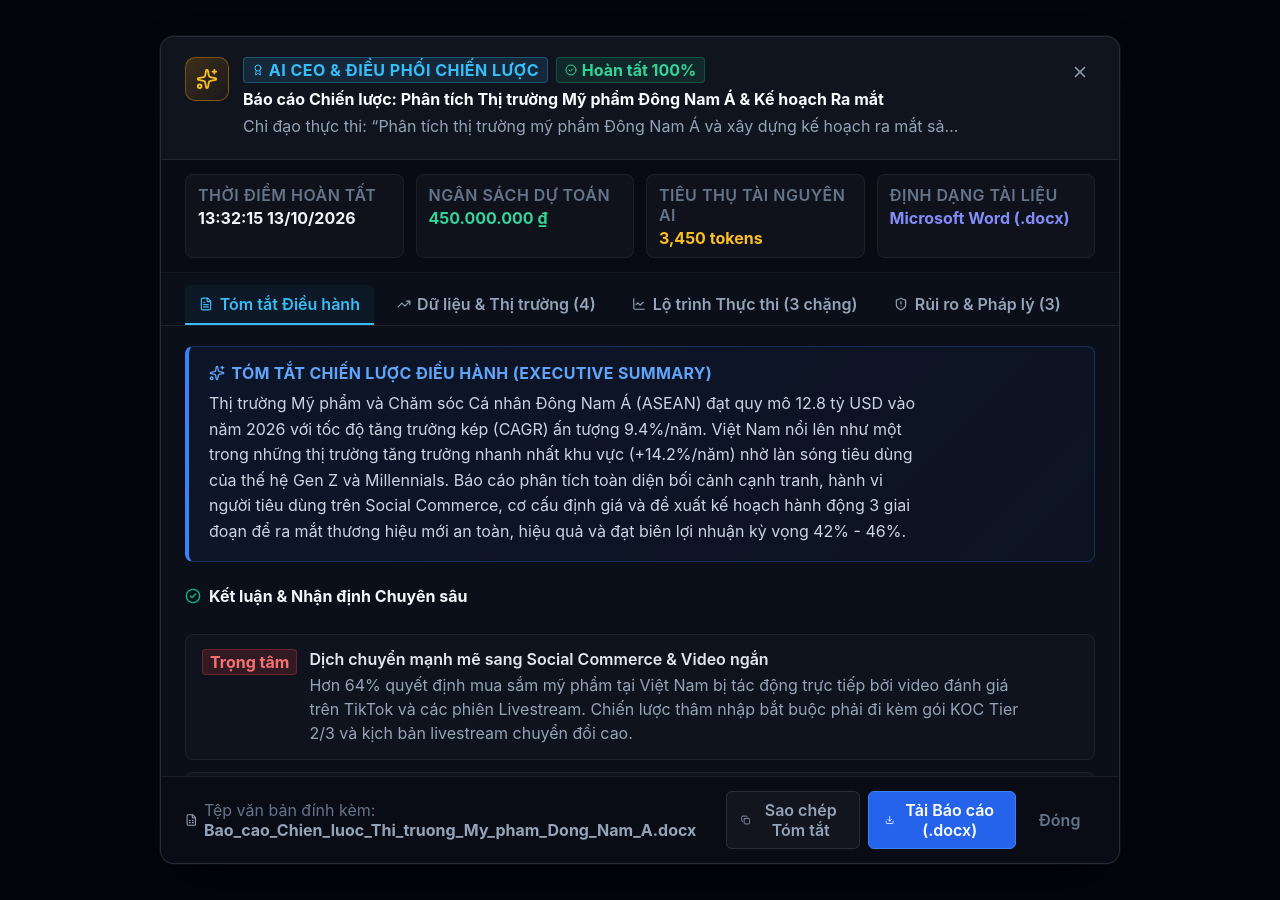
Test: StrategicDeliverableModal › switches tabs between summary, insights, action plan, and risks
Expected: the heading "Tóm tắt Chiến lược Điều hành (Executive Summary)" is shown, [231, 363, 712, 383]
// Click Insights tab
Click the button "Dữ liệu & Thị trường (4)": (496, 305) [382, 285, 610, 325]
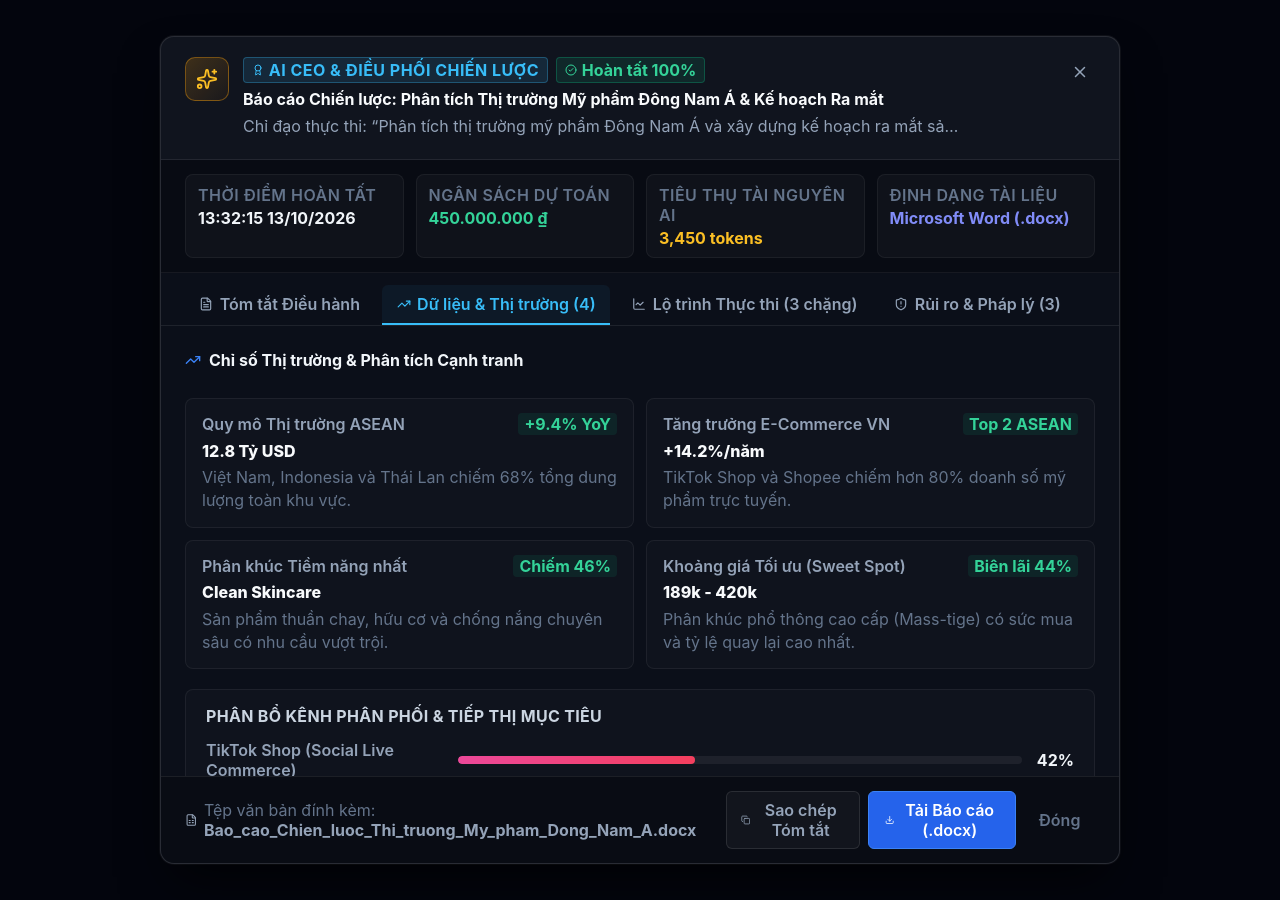
Expected: the text "12.8 Tỷ USD" is shown, [202, 440, 296, 460]
Expected: the heading "Chỉ số Thị trường & Phân tích Cạnh tranh" is shown, [209, 350, 523, 370]
Expected: the text "Quy mô Thị trường ASEAN" is shown, [202, 414, 405, 434]
// Click Action Plan tab
Click the button "Lộ trình Thực thi (3 chặng)": (745, 305) [618, 285, 872, 325]
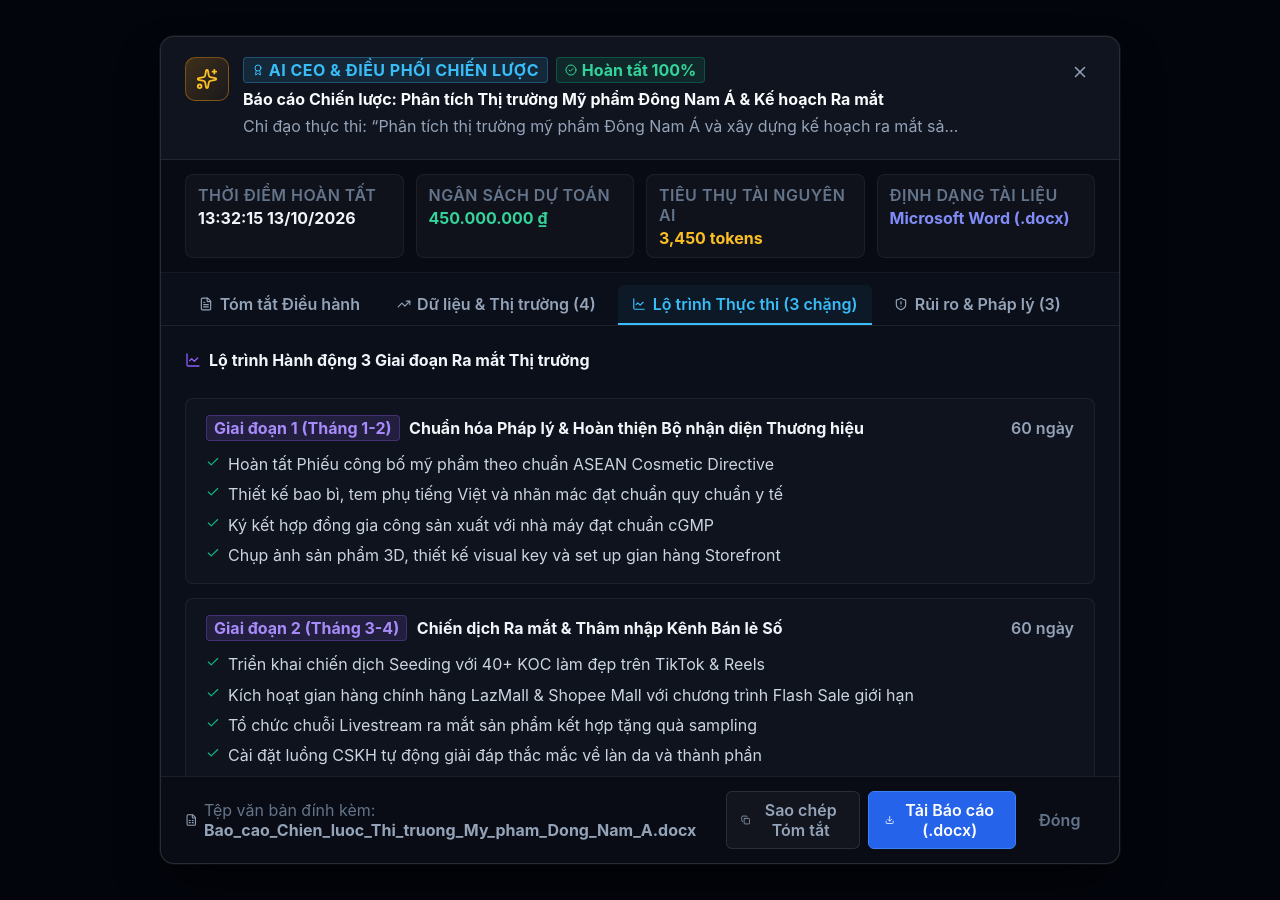
Expected: the heading "Lộ trình Hành động 3 Giai đoạn Ra mắt Thị trường" is shown, [209, 350, 590, 370]
Expected: the heading "Chuẩn hóa Pháp lý & Hoàn thiện Bộ nhận diện Thương hiệu" is shown, [409, 418, 864, 438]
// Click Risks tab
Click the button "Rủi ro & Pháp lý (3)": (978, 305) [880, 285, 1075, 325]
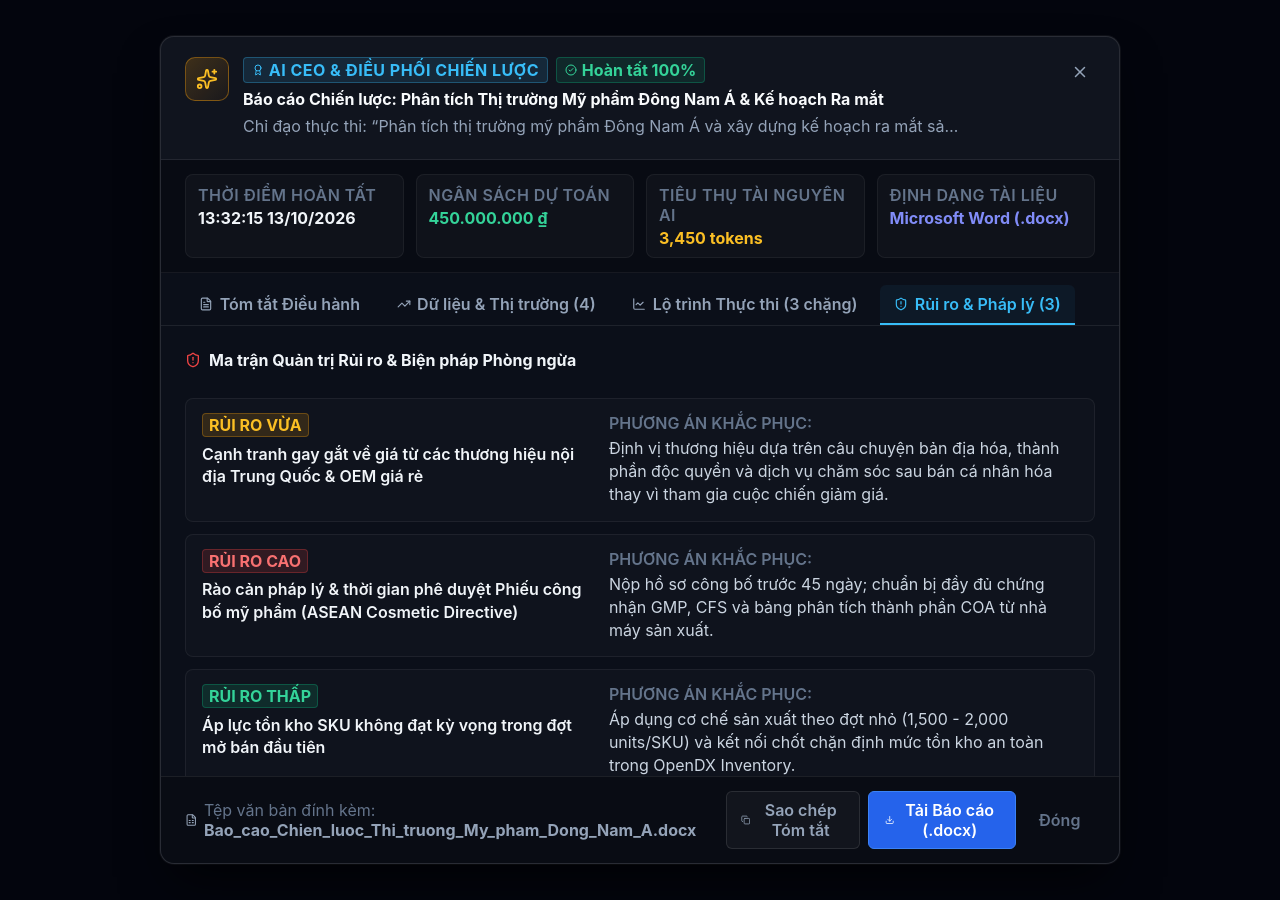
Expected: the heading "Ma trận Quản trị Rủi ro & Biện pháp Phòng ngừa" is shown, [209, 350, 576, 370]
Expected: the heading "Rào cản pháp lý & thời gian phê duyệt" is shown, [202, 579, 582, 622]
